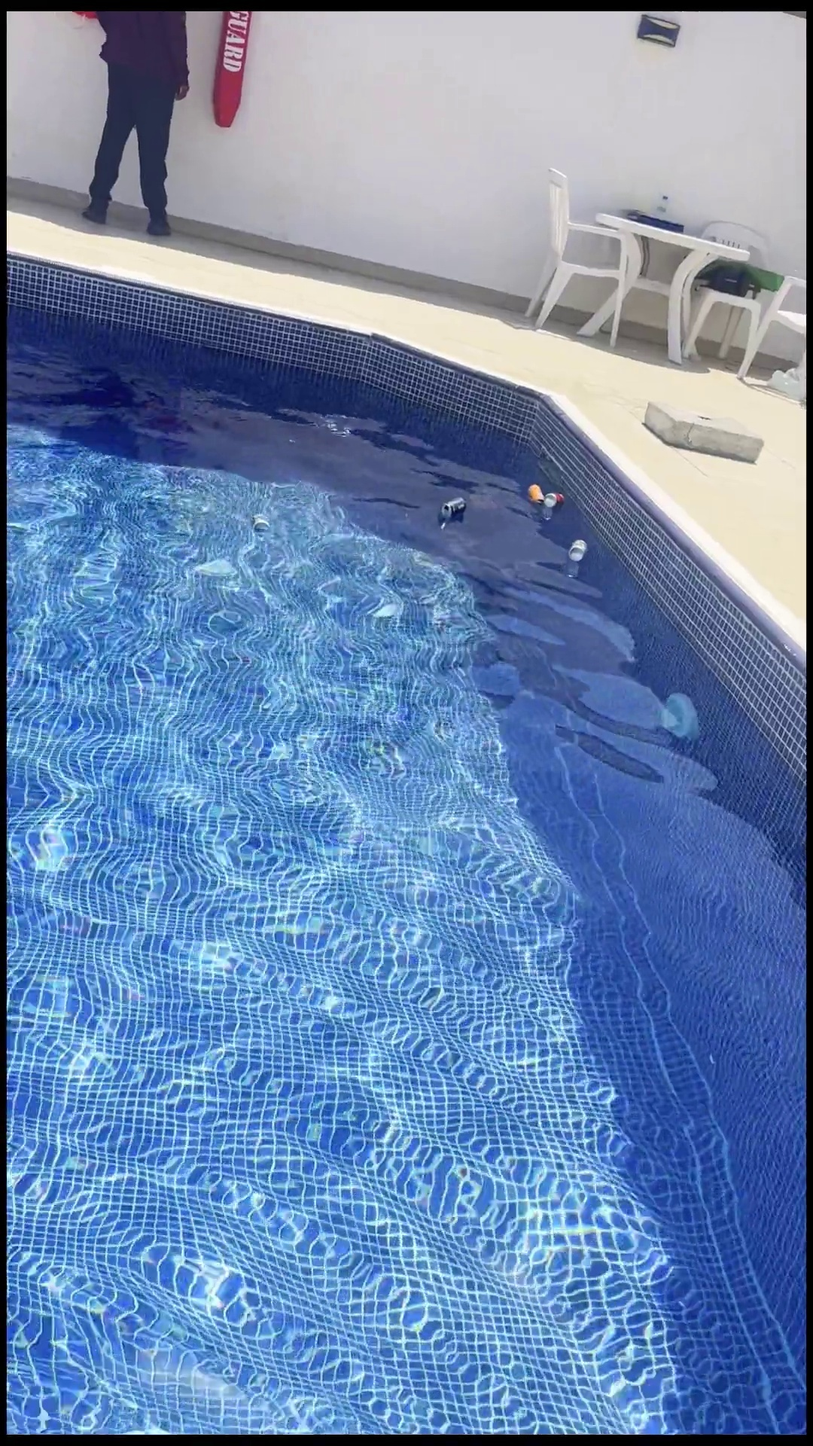debris: (437, 486, 467, 532), (563, 527, 589, 574), (542, 476, 563, 527), (525, 474, 543, 518)
